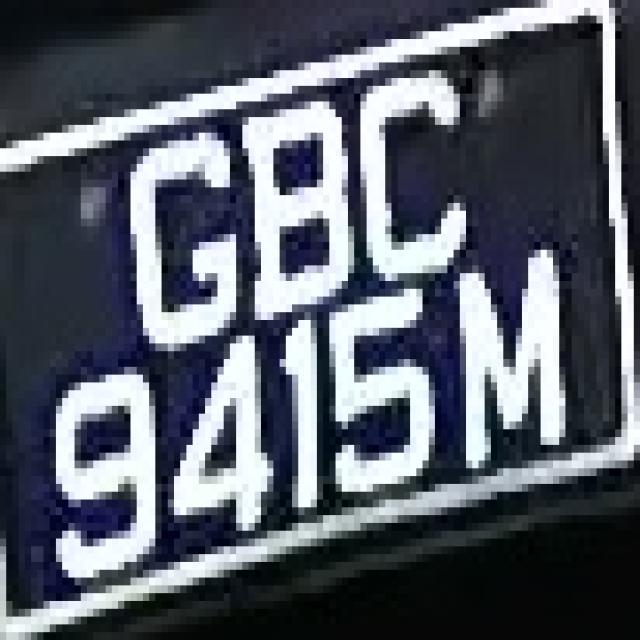1: (274, 274, 336, 546)
4: (149, 320, 274, 554)
5: (310, 273, 460, 523)
9: (37, 367, 168, 601)
B: (230, 86, 354, 328)
C: (348, 46, 491, 296)
G: (112, 109, 248, 367)
M: (429, 219, 584, 476)
